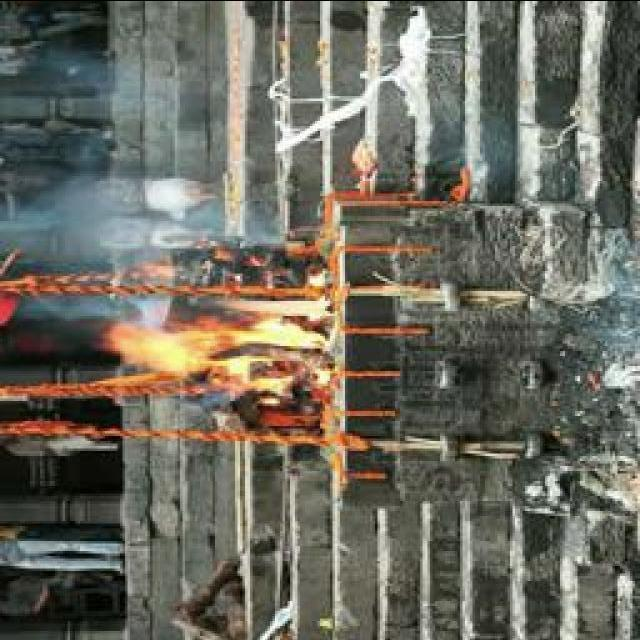Fire: (108, 293, 331, 394)
